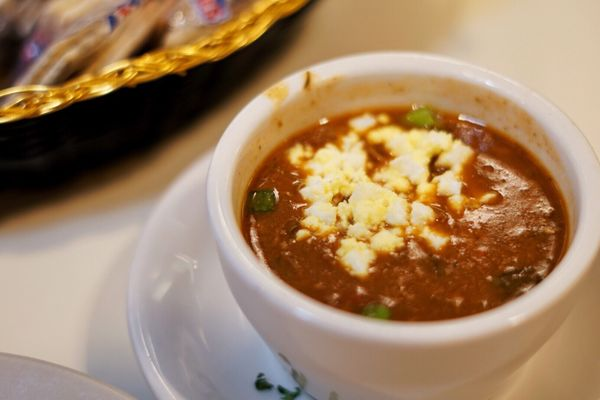sushi: (204, 48, 597, 393)
